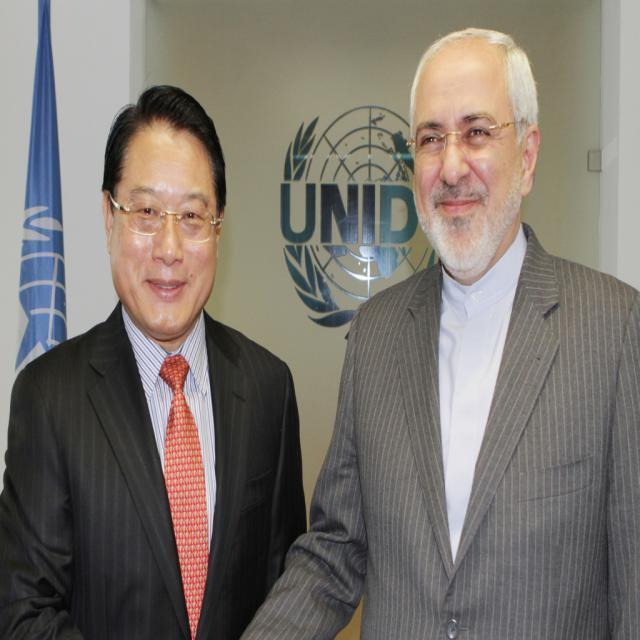closed-mouth: (148, 278, 187, 299), (433, 195, 481, 212)
